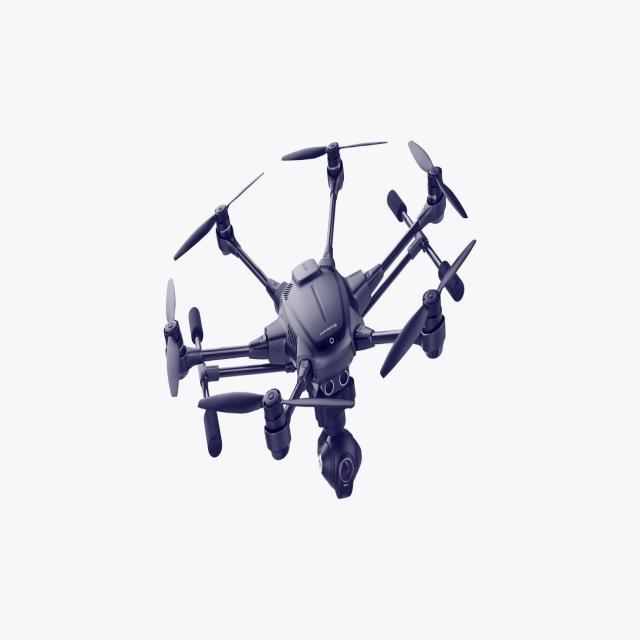drone: (140, 100, 503, 524)
